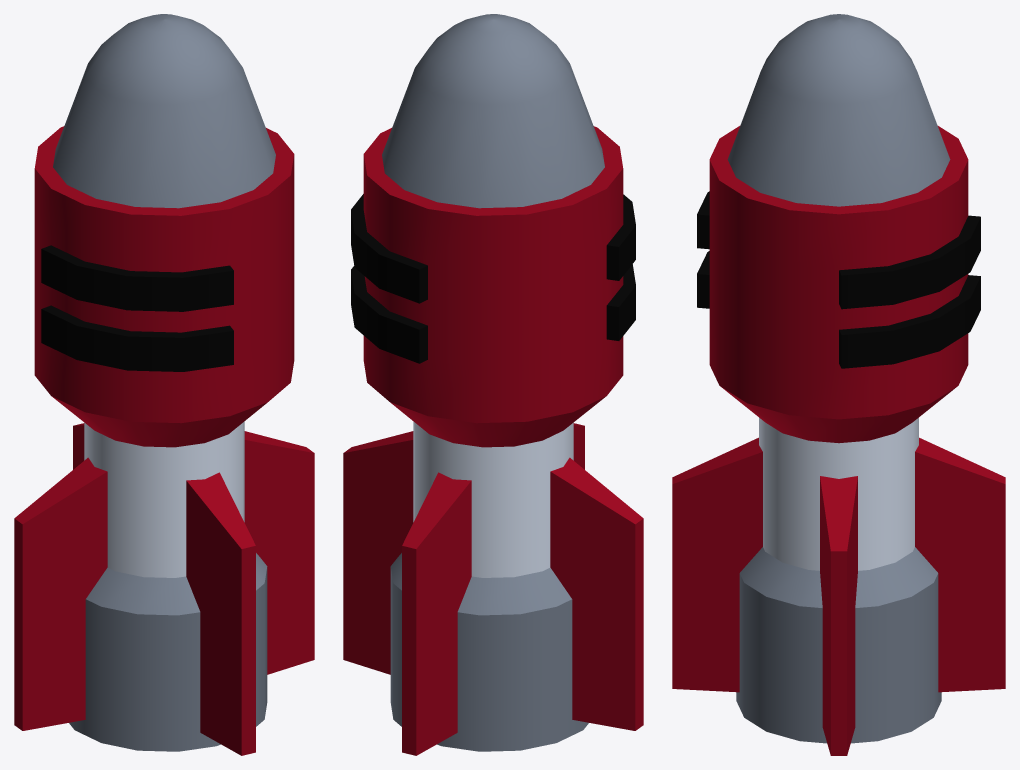
File: rocket.fbx
The picture shows the model from 3 angles, left to right: view 1: azimuth 30°, elevation 25°; view 2: azimuth 150°, elevation 25°; view 3: azimuth 270°, elevation 25°; orthographic projection.
Visible parts, largest first — view 1: rocket.001; view 2: rocket.001; view 3: rocket.001.
Part boxes in pixels (x1=…): rocket.001: x1=14, y1=14, x2=314, y2=755; rocket.001: x1=343, y1=14, x2=643, y2=755; rocket.001: x1=672, y1=14, x2=1005, y2=755.
Bounding box in the file's own units: 7.8 × 17.59 × 7.8.
